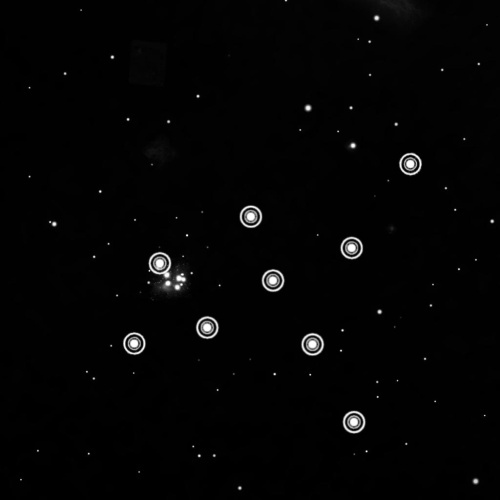cygnus: (118, 148, 425, 441)
